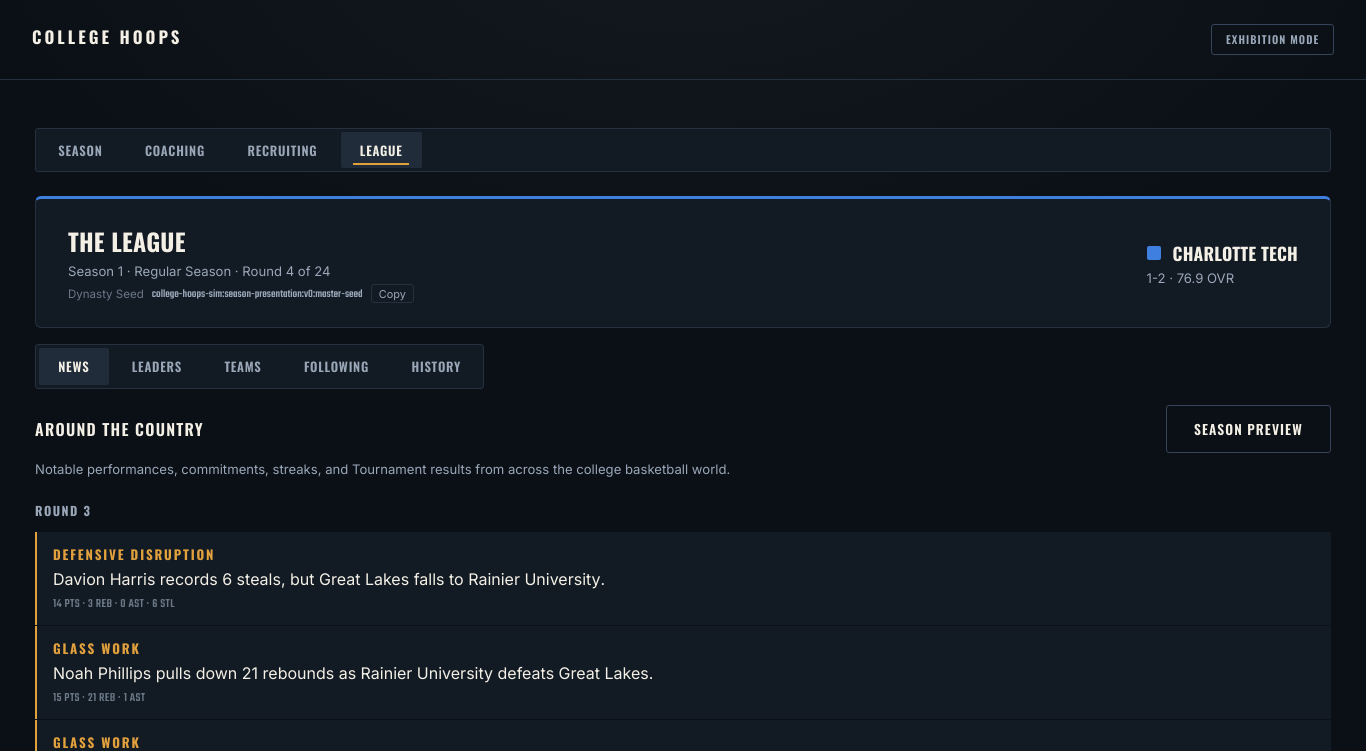
Scenario: National Leaders › opens a leader Program separately and returns to League
Click the button "Leaders": (157, 367) [113, 348, 201, 385]
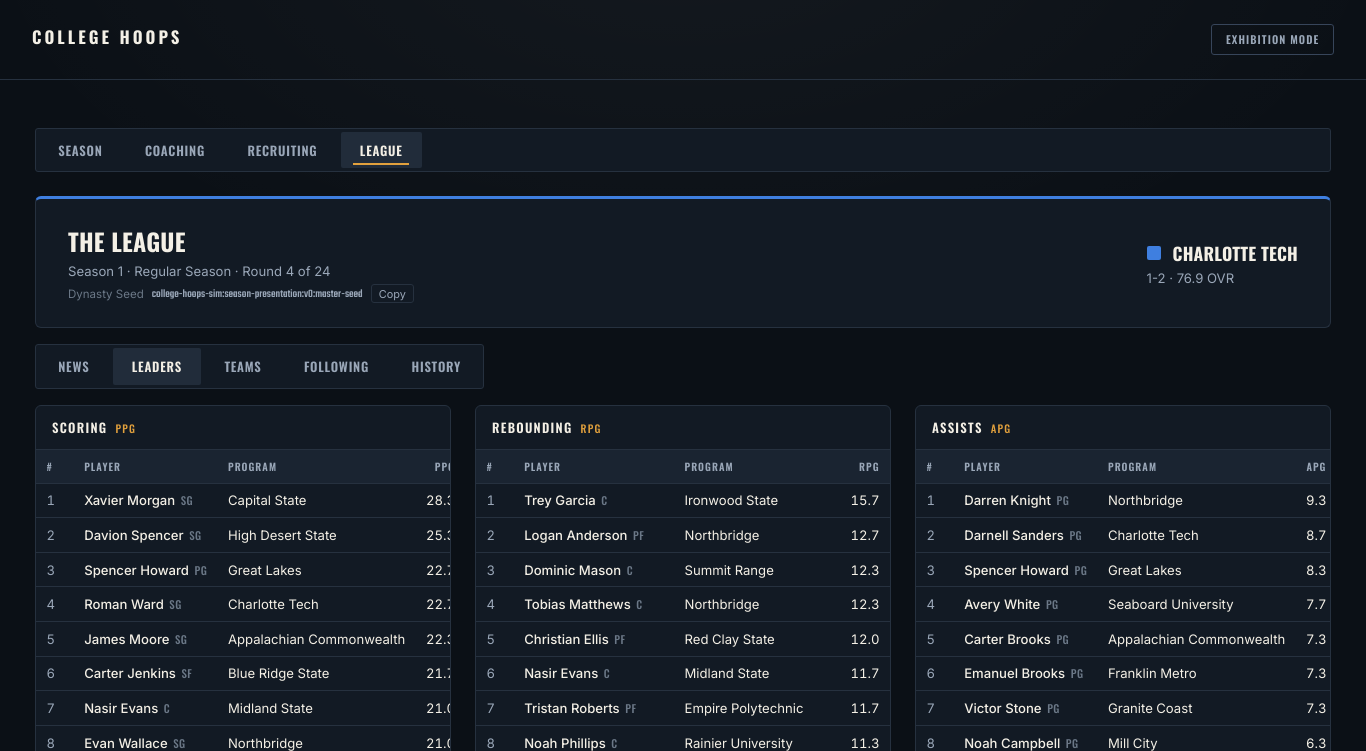
Click the button "Capital State": (267, 500) [228, 492, 306, 508]
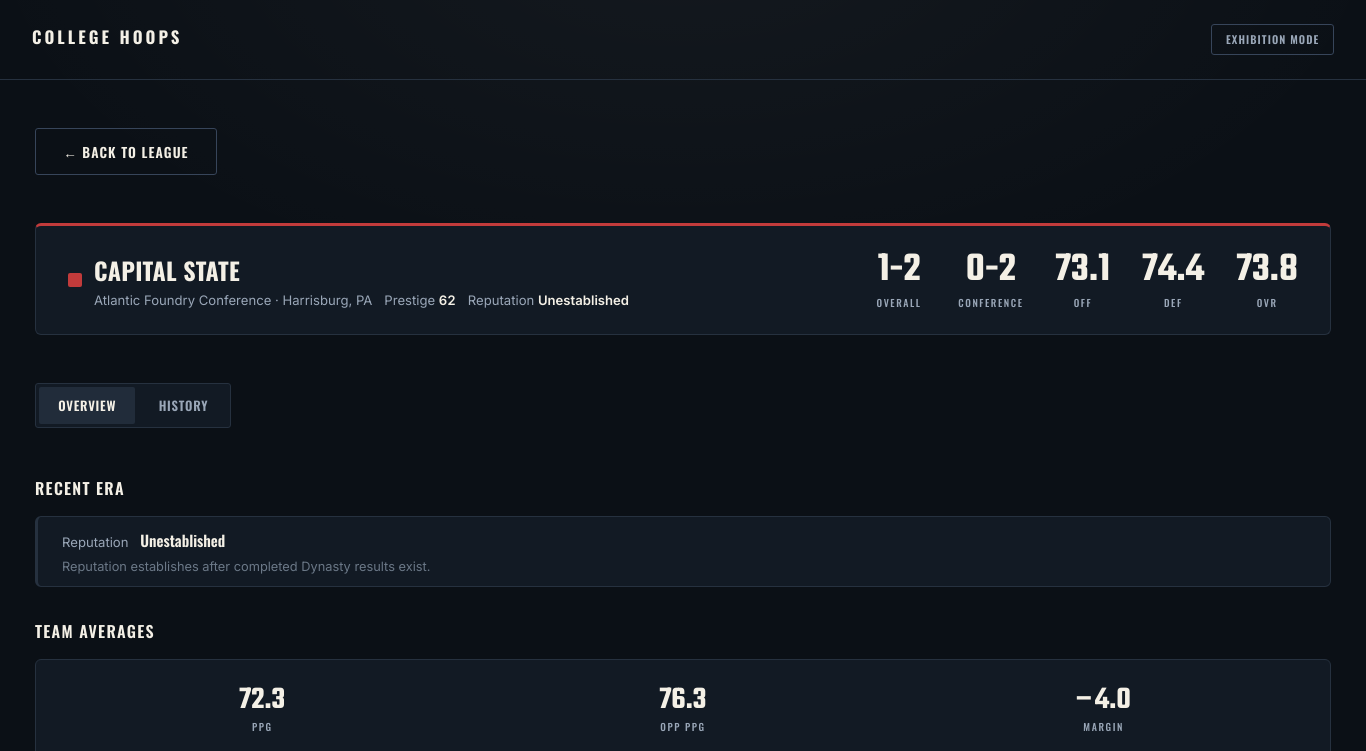
Check: the heading "Capital State" is shown, box [94, 252, 240, 288]
Click the button "← Back to League": (126, 152) [35, 128, 217, 175]
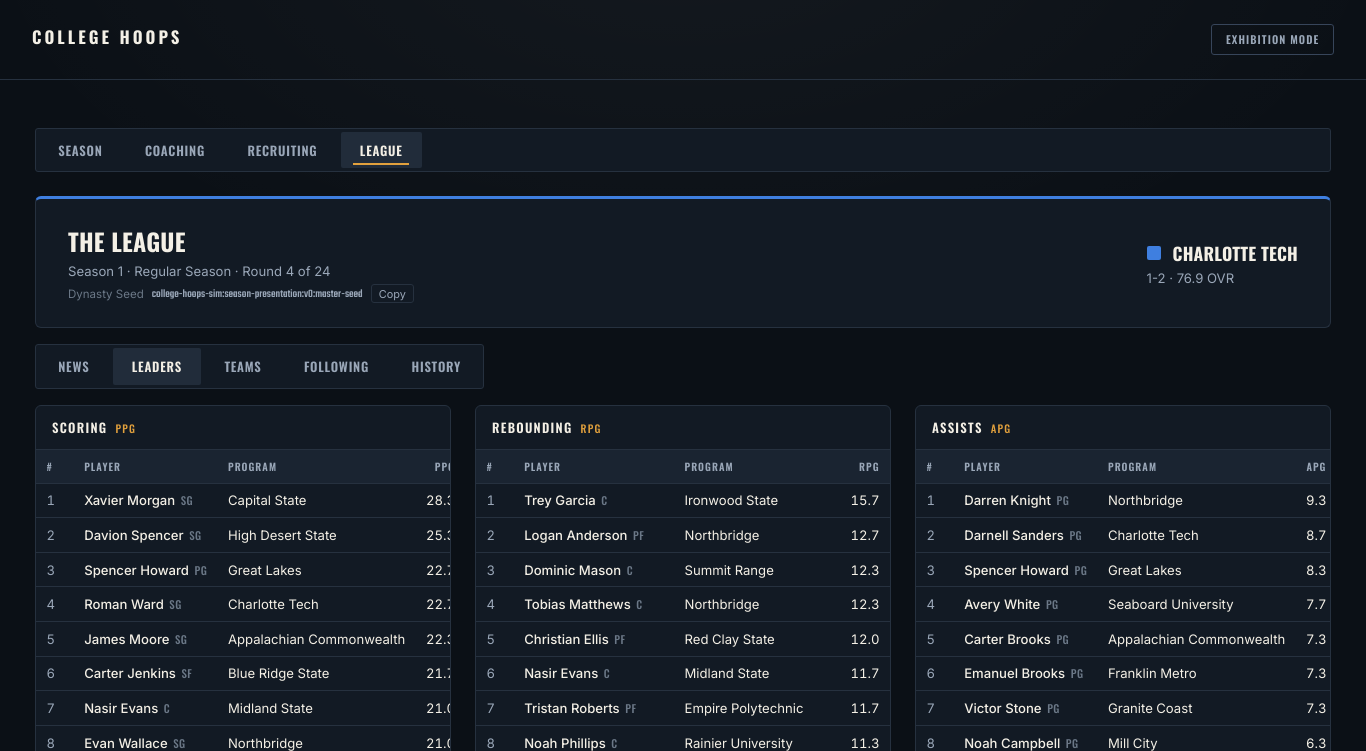
Check: the button "Leaders" is shown, box [113, 348, 201, 385]
Check: the text "Scoring" is shown, box [52, 418, 108, 437]
